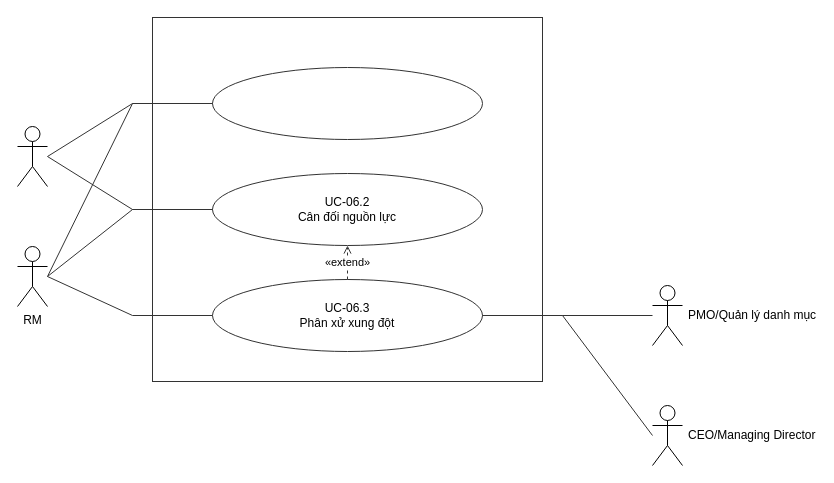
The diagram is 834 pixels wide and 483 high, and some of its shapes have lost their labels. Here are the shapes that lost their labels. From the top down, the box of each, then its label:
(212, 66, 482, 140): UC-06.1 Phân tích và đánh giá xung đột
(16, 126, 48, 186): PM
(152, 16, 542, 382): UC-06 Xử lý xung đột và cân đối nguồn lực (V7)
